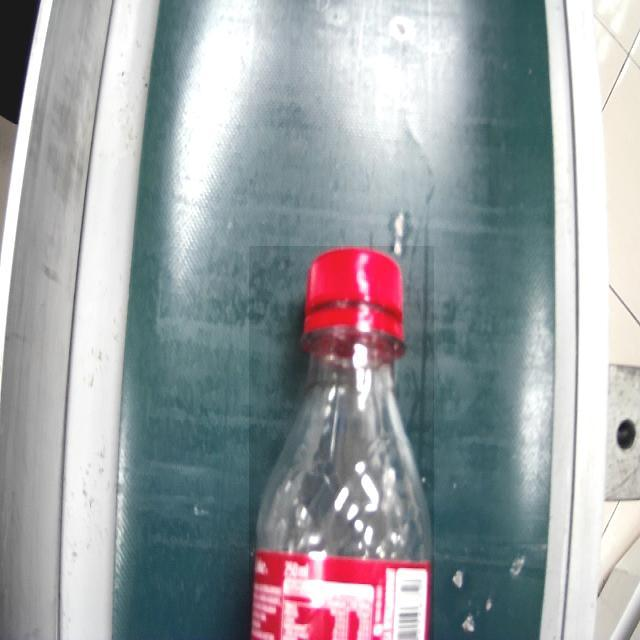Pet_Bottle: (249, 246, 434, 640)
